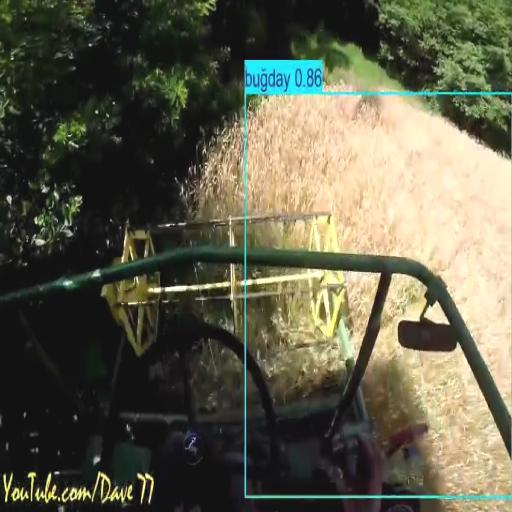bugday: (248, 99, 511, 410), (365, 332, 511, 492), (193, 127, 242, 216)
